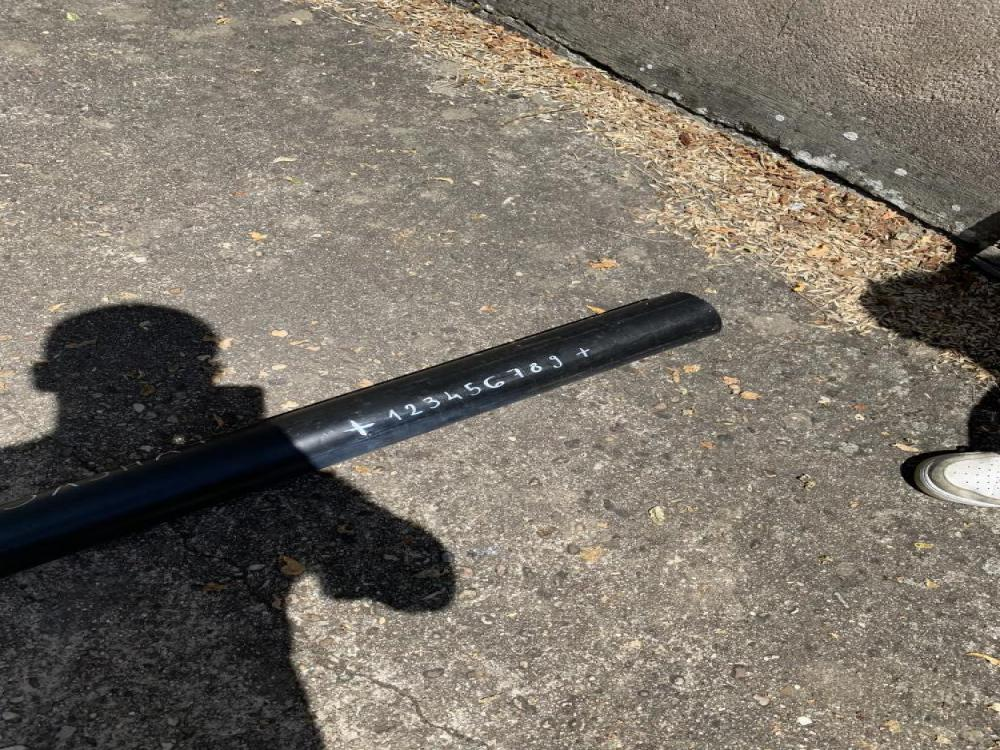+: (560, 469, 581, 493), (463, 307, 477, 318)
1: (546, 449, 561, 459)
2: (539, 433, 554, 447)
3: (530, 420, 546, 433)
4: (523, 404, 534, 418)
5: (510, 389, 529, 404)
6: (501, 372, 518, 388)
7: (492, 356, 503, 371)
8: (483, 344, 497, 354)
9: (474, 328, 490, 338)
